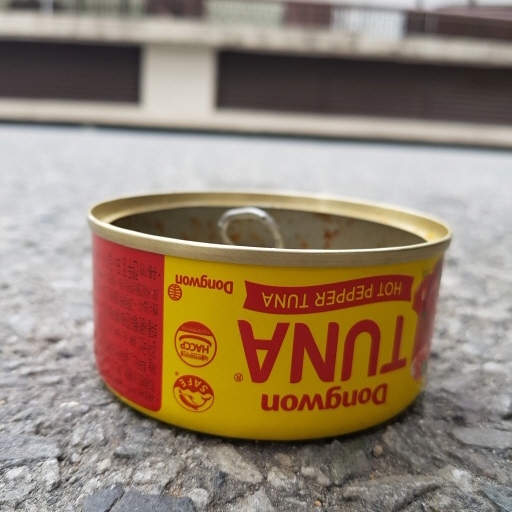Metal_1: (87, 188, 451, 443)
